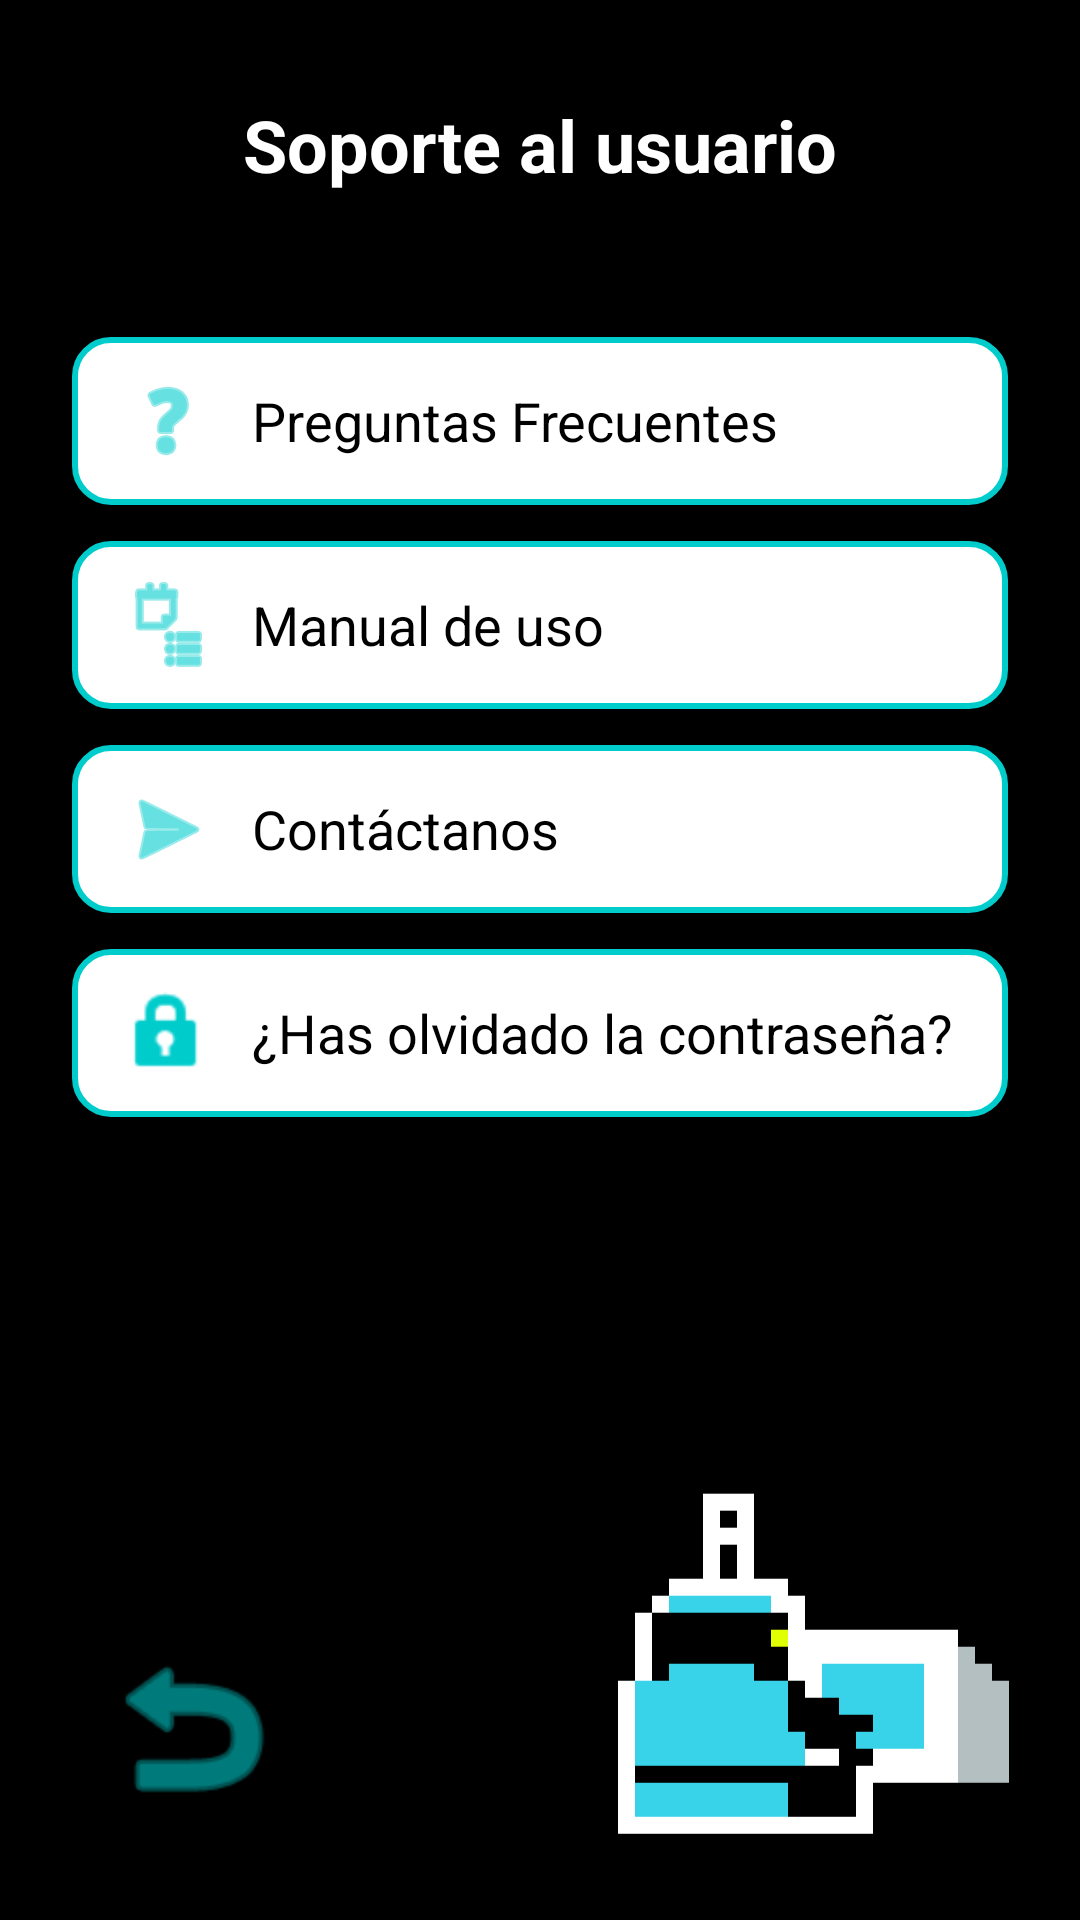

Icon click points for this 1080px×1920px phone screenshot, format [x,y]:
agenda: [168,624]
Atrás: [194,1729]
help: [168,421]
lock idle: [165,1030]
send: [169,829]
